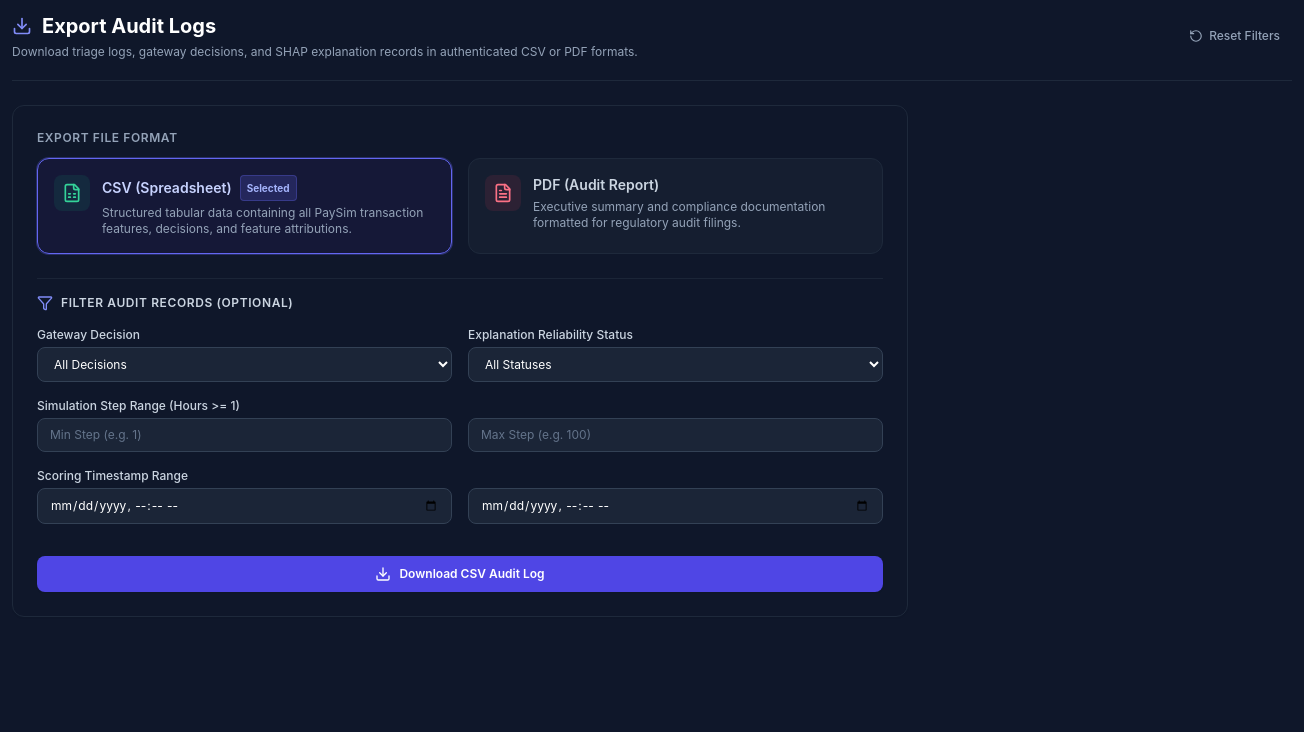
ExportView Page › displays service unavailable banner on HTTP 503
Click the button with test id "download-export-button" at (460, 574), box [37,556,883,592]
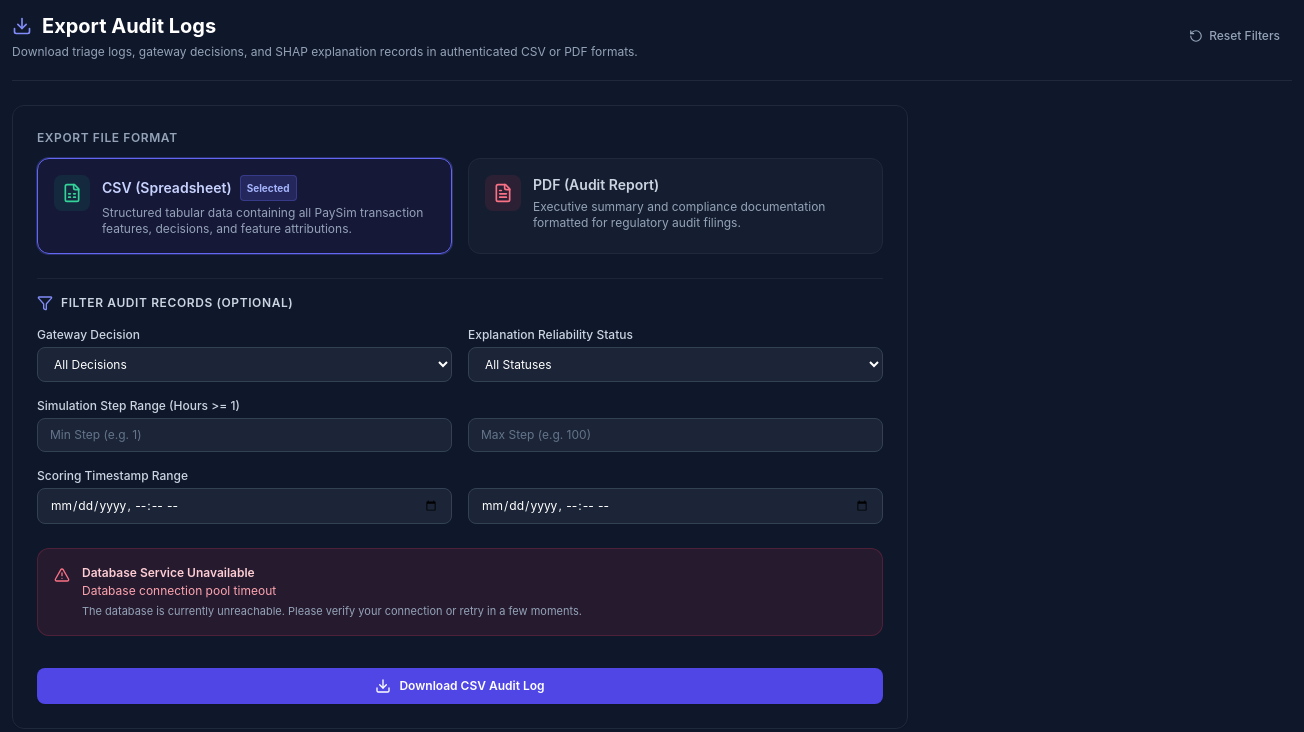
Check: the element with test id "export-error-banner" is shown, box [37,548,883,636]
Check: the text "Database Service Unavailable" is shown, box [82,565,255,580]
Check: the text "database is currently unreachable" is shown, box [82,604,582,618]
